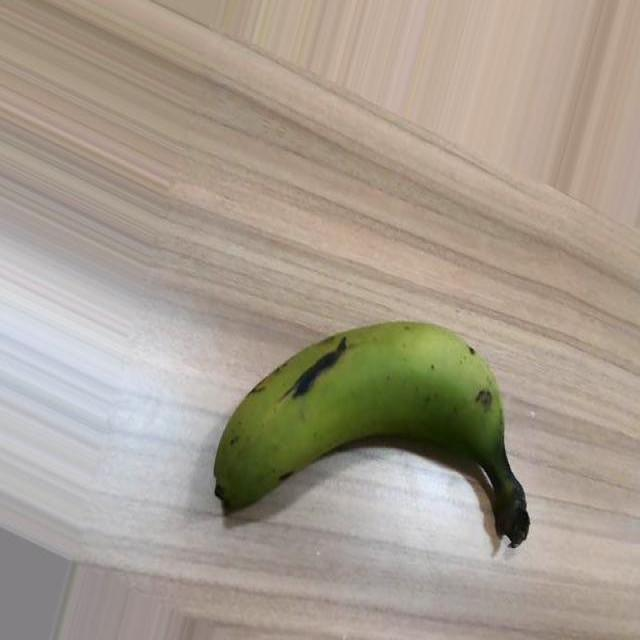Unripe: (214, 316, 530, 546)
